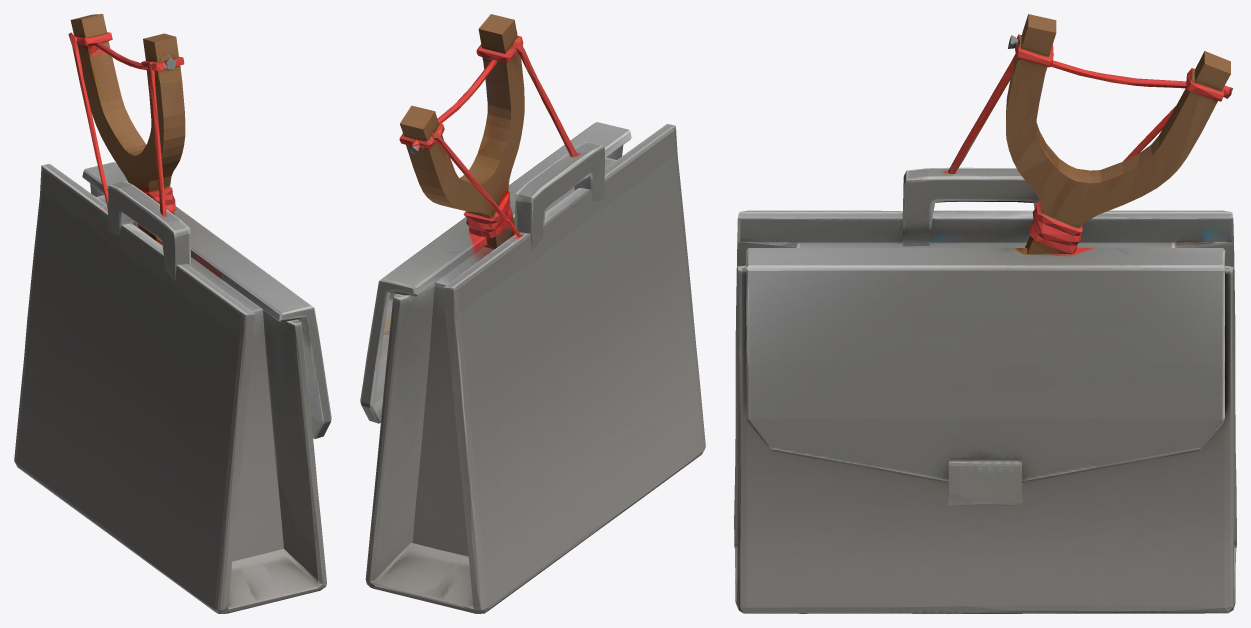
Rendered from case.glb.
3 views of the same model, side by side, from view 1: azimuth 30°, elevation 25°; view 2: azimuth 150°, elevation 25°; view 3: azimuth 270°, elevation 25° (orthographic). The views are drawn at different scales.
Visible parts, largest first — view 1: tripo_node_ec3aab37-c6d1-4a92-84a0-49a84c865285; view 2: tripo_node_ec3aab37-c6d1-4a92-84a0-49a84c865285; view 3: tripo_node_ec3aab37-c6d1-4a92-84a0-49a84c865285.
Boxes of the visible parts, box(x1,y1,x2,y2) form: tripo_node_ec3aab37-c6d1-4a92-84a0-49a84c865285: box(14, 14, 331, 613); tripo_node_ec3aab37-c6d1-4a92-84a0-49a84c865285: box(360, 14, 705, 613); tripo_node_ec3aab37-c6d1-4a92-84a0-49a84c865285: box(734, 14, 1236, 613).
Bounding box in the file's own units: 0.3106 × 0.9999 × 0.7993.
Materials: 1 (1 with a texture image).
